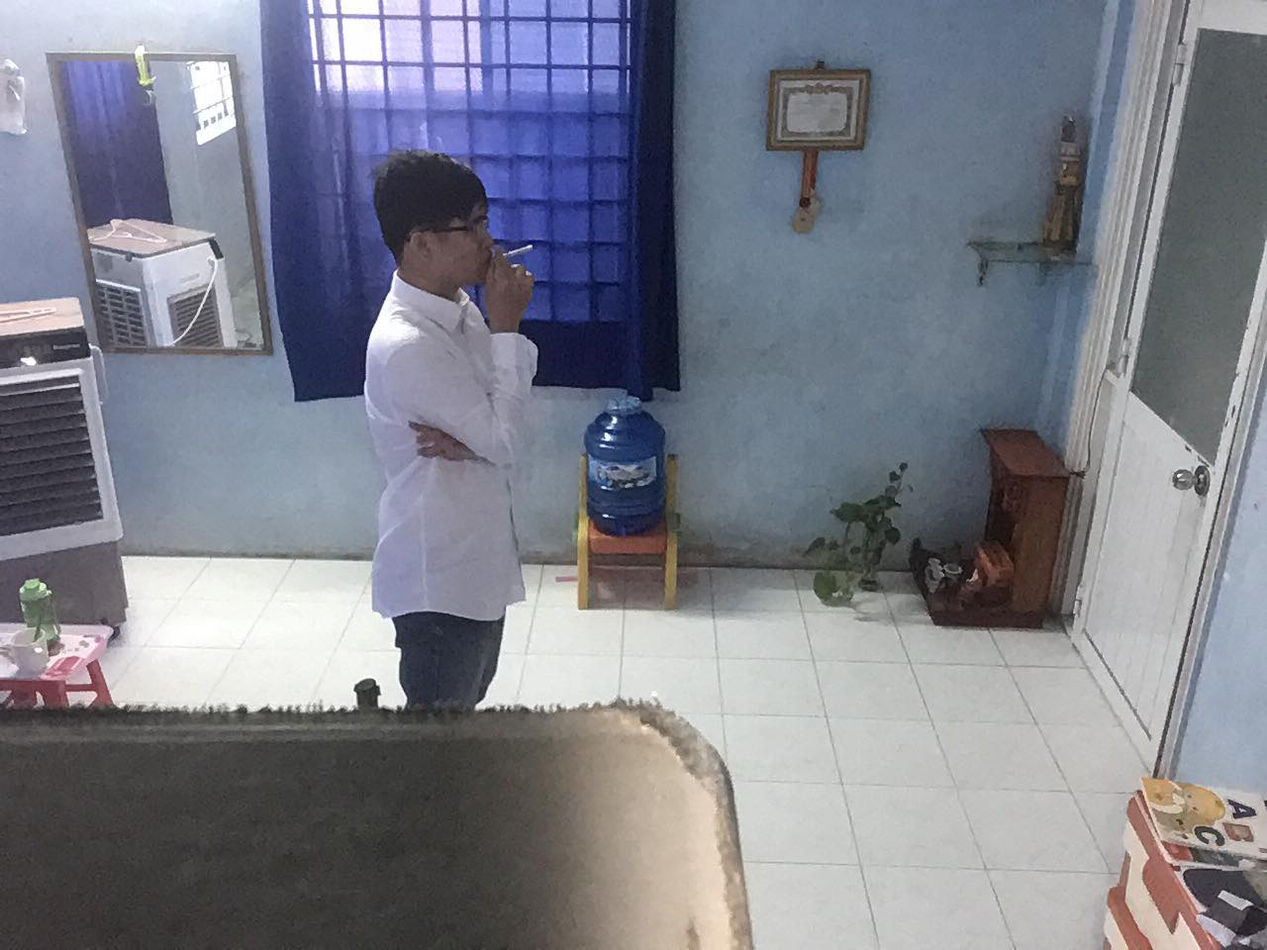cigarette: (491, 244, 547, 263)
person: (333, 133, 590, 725)
